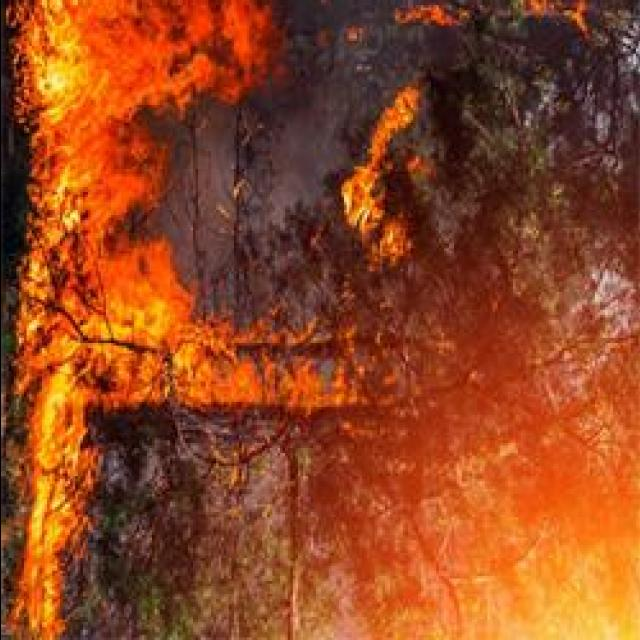fire: (20, 0, 262, 104), (28, 8, 136, 226), (342, 88, 414, 254), (120, 270, 183, 332), (38, 376, 68, 451), (32, 486, 59, 562)
